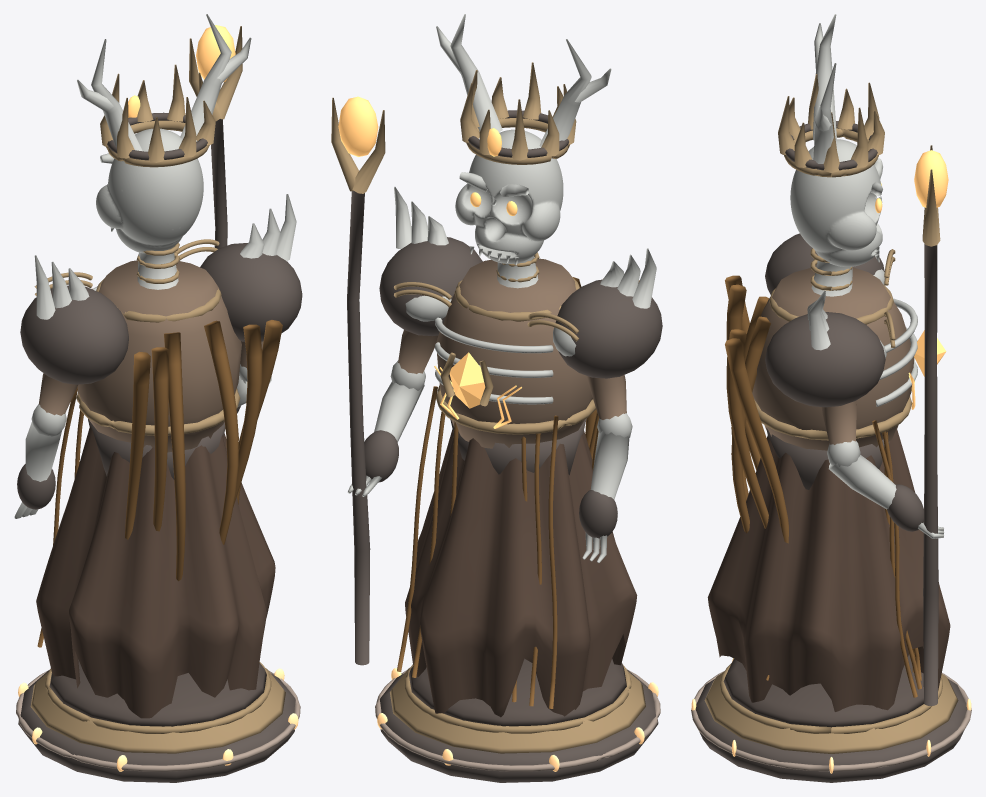
Rendered from roi_liche_orange.fbx.
3 renders of one model, left to right at view 1: azimuth 30°, elevation 25°; view 2: azimuth 150°, elevation 25°; view 3: azimuth 270°, elevation 25°, orthographic.
Parts seen in each view (by area): view 1: ragged_cloak, armored_cuirass, sculpted_skull, pauldron_-1, plinth_lower, plinth_beveled, pauldron_1, plinth_inner, back_mantle_ribbon_-1_0, back_mantle_ribbon_1_0, back_mantle_ribbon_-1_1, back_mantle_ribbon_-1_2 (+28 smaller); view 2: ragged_cloak, armored_cuirass, sculpted_skull, pauldron_-1, plinth_lower, ritual_staff, plinth_beveled, pauldron_1, plinth_inner, plinth_silver_trim, plinth_gold_rim, armored_waist (+32 smaller); view 3: ragged_cloak, armored_cuirass, pauldron_1, sculpted_skull, plinth_lower, ritual_staff, plinth_beveled, plinth_inner, back_mantle_ribbon_1_2, plinth_silver_trim, back_mantle_ribbon_1_1, pauldron_-1 (+24 smaller).
Boxes of the visible parts, x1,y1,x2,y2 form: ragged_cloak: (36, 426, 275, 718); armored_cuirass: (77, 260, 241, 452); sculpted_skull: (96, 128, 203, 253); pauldron_-1: (20, 285, 128, 384); plinth_lower: (18, 670, 295, 782); plinth_beveled: (30, 668, 285, 753); pauldron_1: (200, 243, 302, 341); plinth_inner: (49, 659, 266, 726); back_mantle_ribbon_-1_0: (164, 332, 185, 581); back_mantle_ribbon_1_0: (204, 320, 238, 544); back_mantle_ribbon_-1_1: (151, 347, 168, 531); back_mantle_ribbon_-1_2: (125, 351, 150, 539); ragged_cloak: (405, 429, 637, 717); armored_cuirass: (436, 258, 592, 448); sculpted_skull: (455, 129, 563, 263); pauldron_-1: (555, 279, 662, 378); plinth_lower: (380, 670, 658, 782); ritual_staff: (347, 191, 370, 665); plinth_beveled: (390, 667, 645, 753); pauldron_1: (379, 237, 482, 336); plinth_inner: (409, 658, 626, 726); plinth_silver_trim: (375, 669, 660, 771); plinth_gold_rim: (404, 664, 631, 733); armored_waist: (450, 418, 586, 475); ragged_cloak: (707, 428, 950, 711); armored_cuirass: (752, 267, 914, 450); pauldron_1: (765, 312, 885, 407); sculpted_skull: (790, 139, 882, 266); plinth_lower: (695, 679, 967, 782); ritual_staff: (923, 244, 938, 705); plinth_beveled: (704, 672, 958, 753); plinth_inner: (723, 654, 923, 727); back_mantle_ribbon_1_2: (725, 338, 788, 680); plinth_silver_trim: (691, 671, 971, 771); back_mantle_ribbon_1_1: (726, 329, 768, 528); pauldron_-1: (765, 233, 884, 294).
Bounding box in the file's own units: 73.77 × 185 × 68.4.
